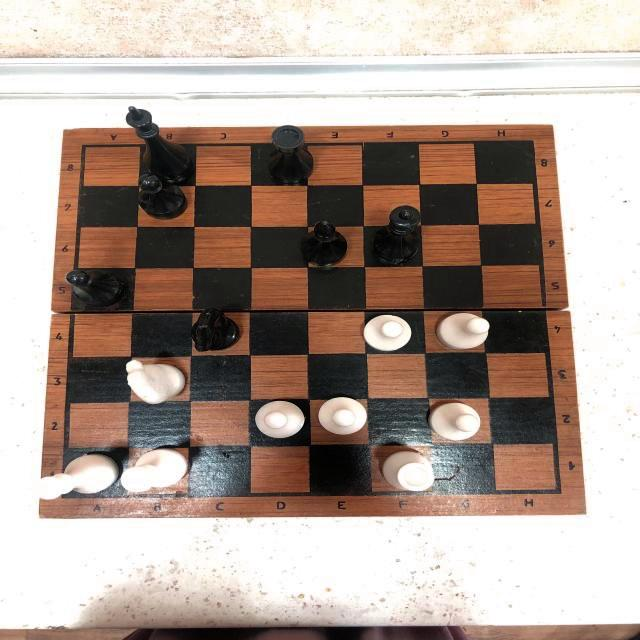chess-table-corners: (540, 478, 575, 506), (72, 136, 105, 160), (518, 132, 546, 154)
